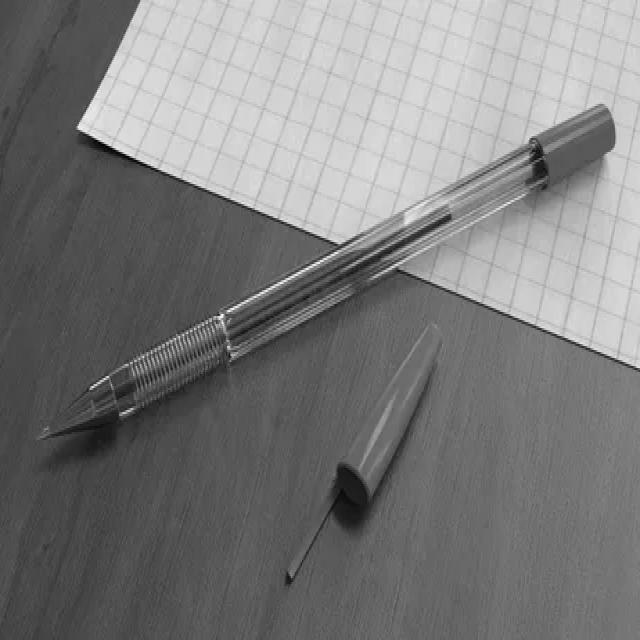pencil: (18, 91, 625, 452)
